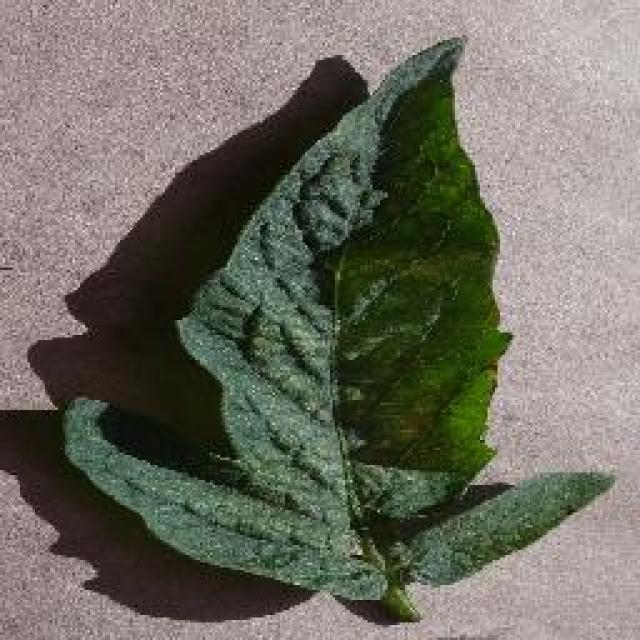Tomato___Spider_mites Two-spotted_spider_mite: (62, 38, 612, 620)
